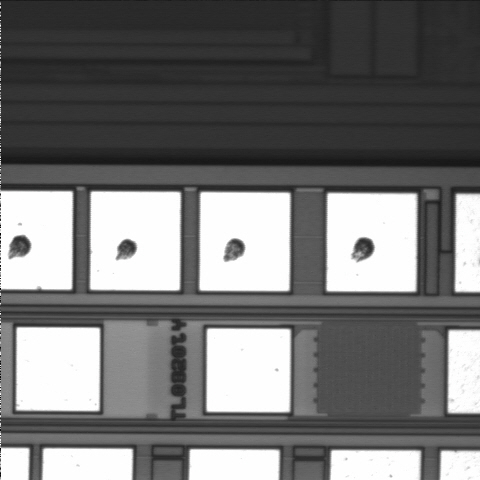pad: (200, 192, 290, 291), (90, 192, 180, 290), (327, 193, 417, 291), (16, 328, 100, 411), (207, 329, 290, 412)
